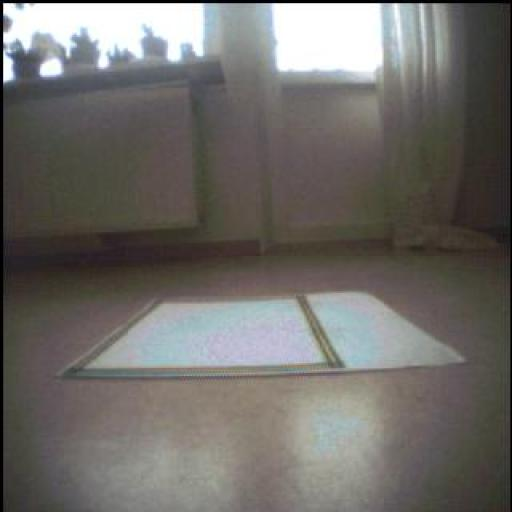Pad: (63, 294, 465, 379)
